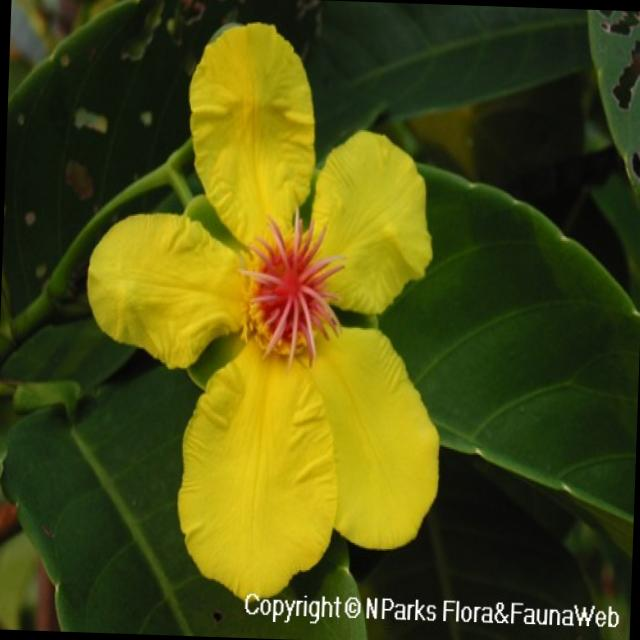Simpoh-Lak: (52, 19, 464, 597)
